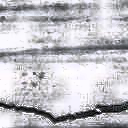crackTip: (1, 90, 128, 123)
